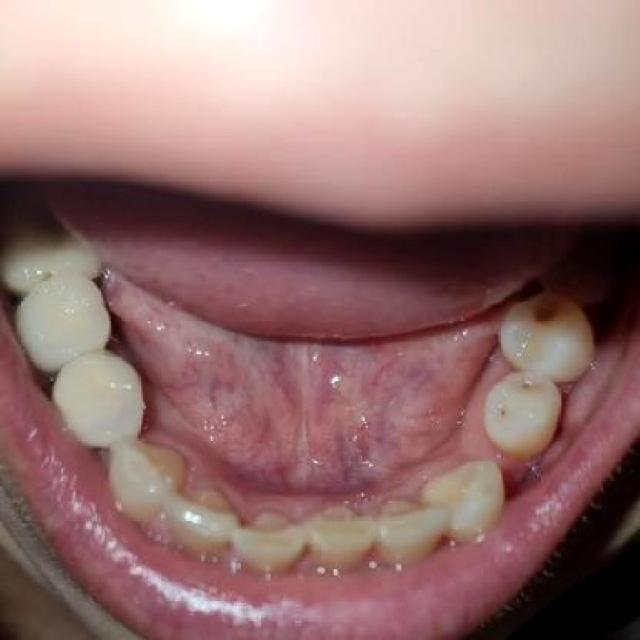Plaque: (525, 295, 569, 335), (497, 375, 535, 419)
